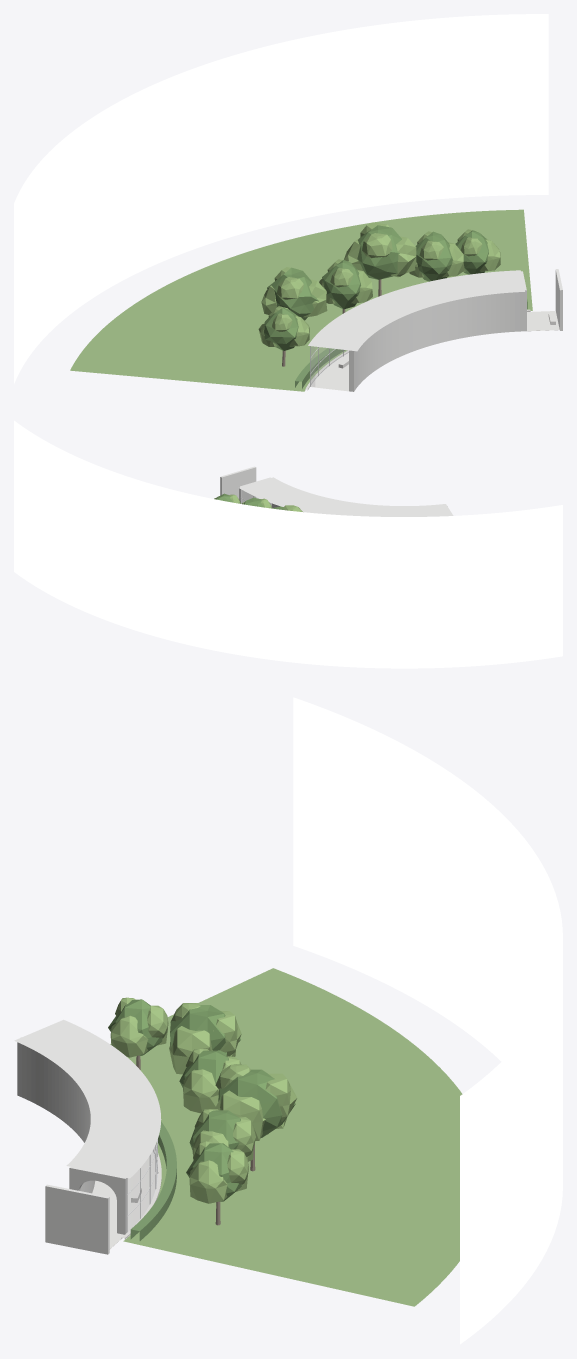
File: profile-gallery.glb
3 renders of one model, top to bottom at view 1: azimuth 30°, elevation 25°; view 2: azimuth 150°, elevation 25°; view 3: azimuth 270°, elevation 25°, orthographic. The views are drawn at different scales.
Parts seen in each view (by area): view 1: PRG_DaylightSkyBackdrop, PRG_GardenLawn, PRG_InnerWall, PRG_Ceiling, PRG_Tree_04_Canopy_0, PRG_Tree_02_Canopy_0, PRG_Tree_05_Canopy_0, PRG_Tree_03_Canopy_0, PRG_Tree_01_Canopy_0, PRG_Floor, PRG_Tree_06_Canopy_0, PRG_OuterCurtainWall_Glass (+6 smaller); view 2: PRG_DaylightSkyBackdrop, PRG_Ceiling, PRG_Vestibule_BackdropWall; view 3: PRG_DaylightSkyBackdrop, PRG_GardenLawn, PRG_Ceiling, PRG_InnerWall, PRG_Vestibule_BackdropWall, PRG_Floor, PRG_Tree_04_Canopy_0, PRG_BoxwoodHedge, PRG_Portal_ArchedWall, PRG_OuterCurtainWall_Glass, PRG_Tree_02_Canopy_0, PRG_Tree_06_Canopy_2 (+9 smaller).
Part boxes in pixels (<box>): PRG_DaylightSkyBackdrop: <box>14,14,548,383</box>; PRG_GardenLawn: <box>70,209,532,391</box>; PRG_InnerWall: <box>349,292,524,391</box>; PRG_Ceiling: <box>308,270,524,351</box>; PRG_Tree_04_Canopy_0: <box>357,225,401,279</box>; PRG_Tree_02_Canopy_0: <box>267,267,318,320</box>; PRG_Tree_05_Canopy_0: <box>415,231,452,281</box>; PRG_Tree_03_Canopy_0: <box>322,260,360,309</box>; PRG_Tree_01_Canopy_0: <box>264,307,298,350</box>; PRG_Floor: <box>311,353,348,391</box>; PRG_Tree_06_Canopy_0: <box>455,230,488,274</box>; PRG_OuterCurtainWall_Glass: <box>311,346,348,386</box>; PRG_DaylightSkyBackdrop: <box>14,420,562,668</box>; PRG_Ceiling: <box>239,477,453,516</box>; PRG_Vestibule_BackdropWall: <box>220,466,256,500</box>; PRG_DaylightSkyBackdrop: <box>293,697,562,1344</box>; PRG_GardenLawn: <box>110,968,462,1306</box>; PRG_Ceiling: <box>14,1019,161,1178</box>; PRG_InnerWall: <box>17,1042,95,1193</box>; PRG_Vestibule_BackdropWall: <box>45,1184,109,1254</box>; PRG_Floor: <box>92,1151,156,1231</box>; PRG_Tree_04_Canopy_0: <box>218,1069,295,1137</box>; PRG_BoxwoodHedge: <box>130,1121,176,1240</box>; PRG_Portal_ArchedWall: <box>69,1167,127,1234</box>; PRG_OuterCurtainWall_Glass: <box>128,1142,157,1231</box>; PRG_Tree_02_Canopy_0: <box>170,1005,240,1056</box>; PRG_Tree_06_Canopy_2: <box>189,1160,227,1203</box>.
Bounding box in the file's own units: 79.17 × 23 × 46.04.
